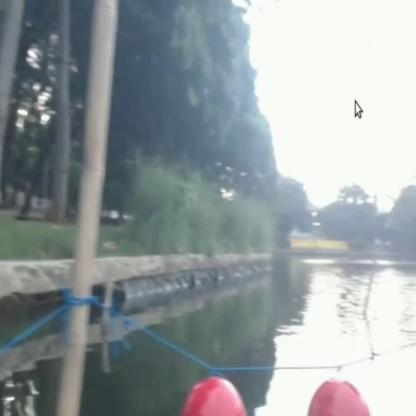red_buoy: (187, 375, 245, 415), (311, 383, 371, 415)
